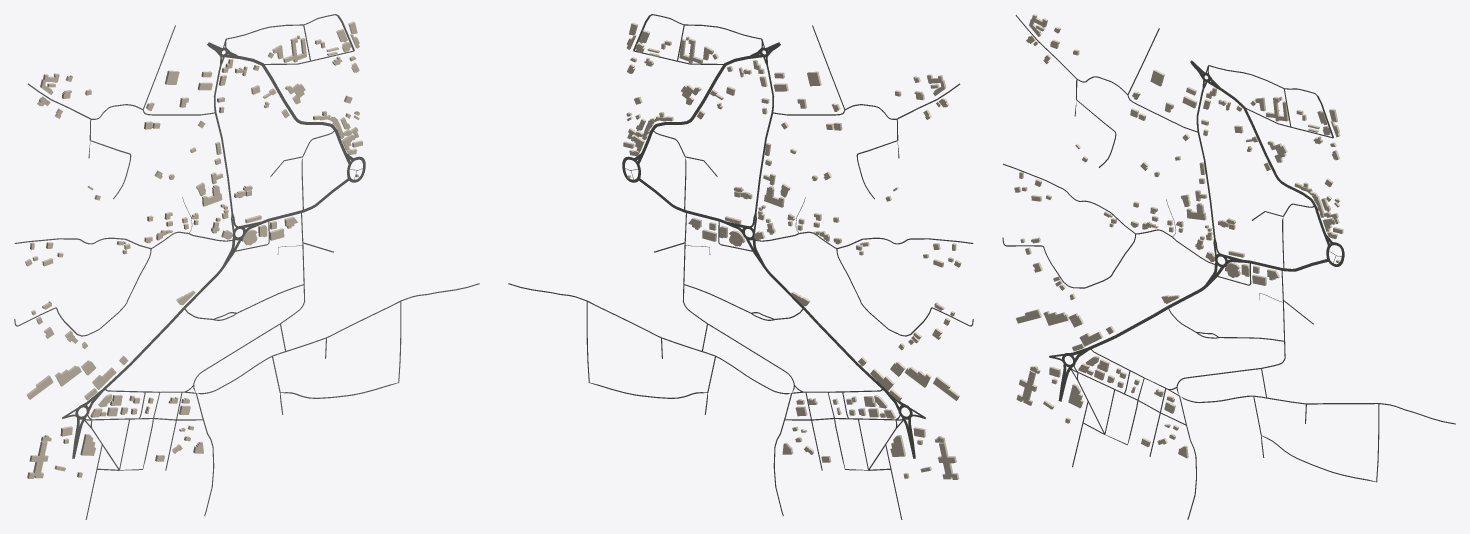
Rendered from historic-palestine-13_24_3545_3185.glb.
The picture shows the model from 3 angles, left to right: view 1: azimuth 30°, elevation 25°; view 2: azimuth 150°, elevation 25°; view 3: azimuth 330°, elevation 25°; orthographic projection. The views are drawn at different scales.
Parts seen in each view (by area): view 1: Road .011, Road شارع سعيد صايل.002; view 2: Road .011, Road شارع سعيد صايل.002; view 3: Road .011, Road شارع سعيد صايل.002.
Part boxes in pixels (x1,y1,x2,y2): Road .011: (195,283,479,515); Road شارع سعيد صايل.002: (119,301,304,470); Road .011: (508,283,792,515); Road شارع سعيد صايل.002: (683,301,868,470); Road .011: (1179,395,1455,519); Road شارع سعيد صايل.002: (1104,358,1285,445).
Size of the model in its own units: 1339 by 1369 by 9.09.
